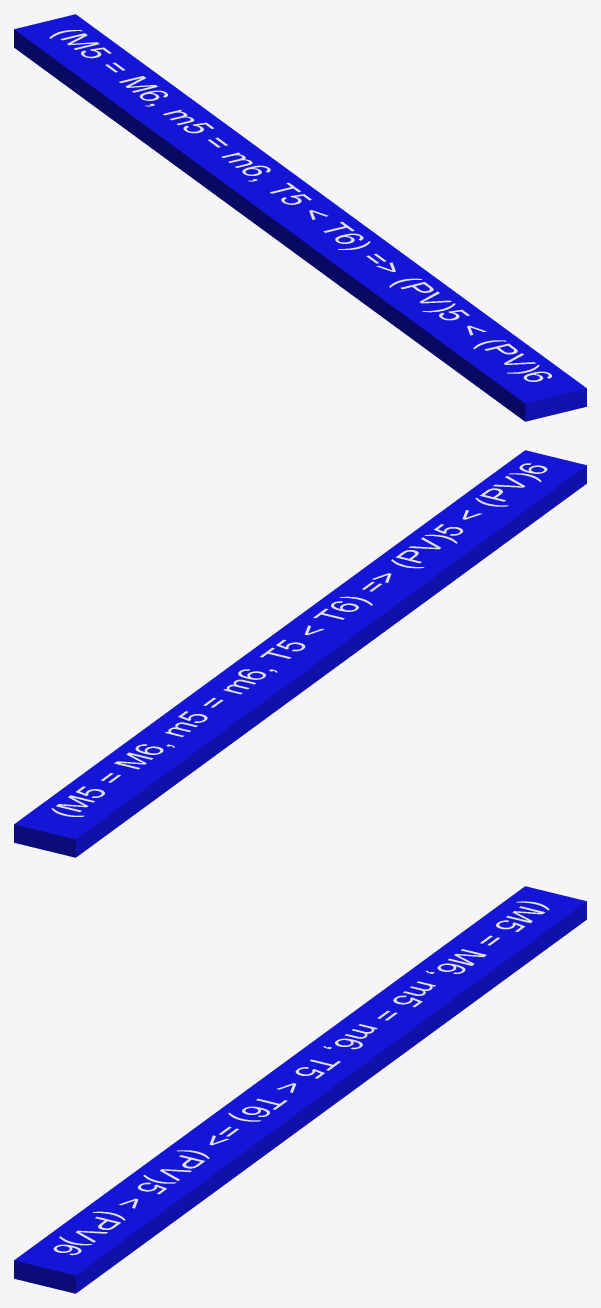
The model's file is speed3.FBX.
3 renders of one model, top to bottom at view 1: azimuth 30°, elevation 25°; view 2: azimuth 150°, elevation 25°; view 3: azimuth 330°, elevation 25°, orthographic.
Parts seen in each view (by area): view 1: Text002; view 2: Text002; view 3: Text002.
Part boxes in pixels (x1,y1,x2,y2): Text002: [14, 14, 586, 421]; Text002: [14, 450, 586, 857]; Text002: [14, 886, 586, 1293].
Bounding box in the file's own units: 24.39 × 8.28 × 350.
